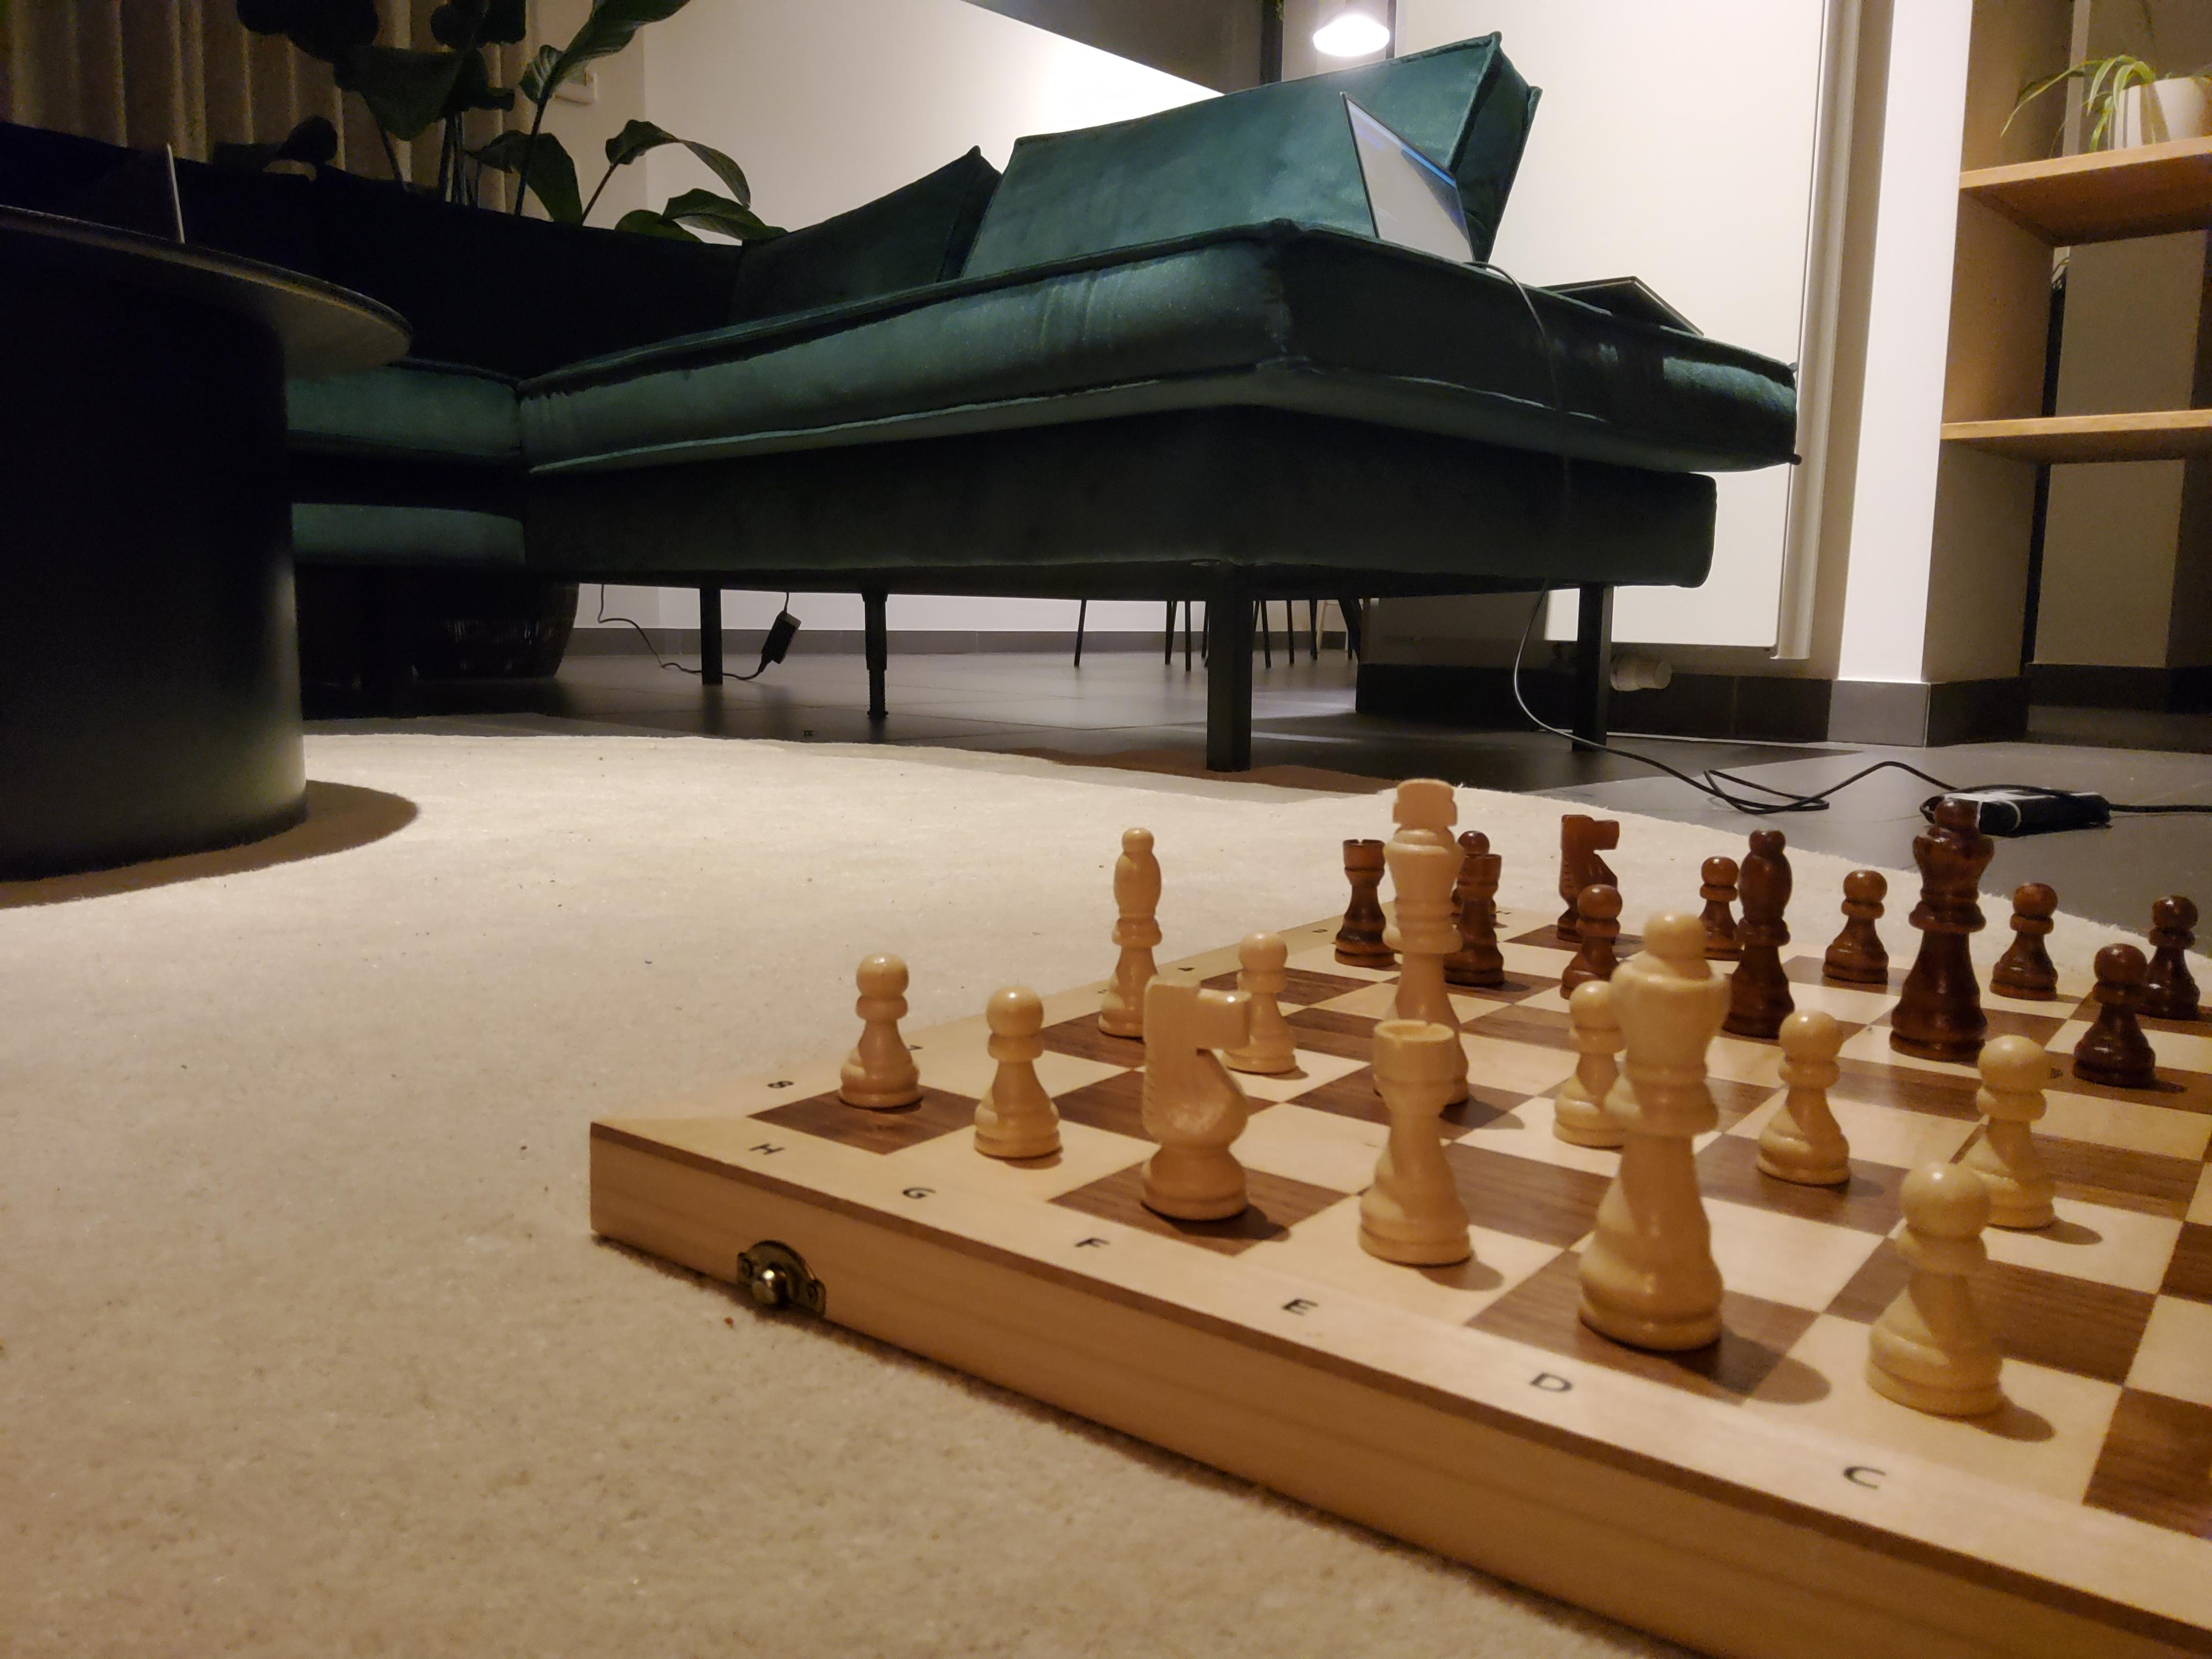schaak: (554, 772, 2212, 1659), (1608, 908, 1737, 1361), (1888, 1136, 2020, 1415), (1141, 967, 1270, 1222), (1360, 1012, 1484, 1272), (954, 976, 1080, 1168), (1956, 1033, 2074, 1236), (1379, 772, 1465, 1026), (1911, 784, 1986, 1053), (820, 943, 937, 1110), (1763, 992, 1862, 1187), (2081, 938, 2174, 1091), (1728, 814, 1792, 1032), (1554, 964, 1623, 1143), (1104, 823, 1155, 1033), (1240, 936, 1303, 1075), (2146, 892, 2210, 1018), (1325, 817, 1379, 964), (1838, 857, 1895, 986), (2001, 873, 2062, 988), (1554, 807, 1618, 896), (1474, 828, 1512, 972), (1568, 882, 1611, 972), (1691, 847, 1728, 941)
